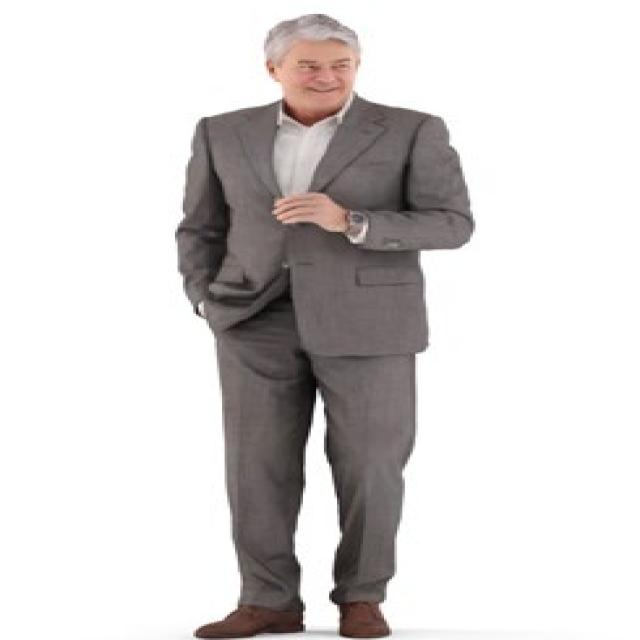standing: (171, 12, 486, 640)
